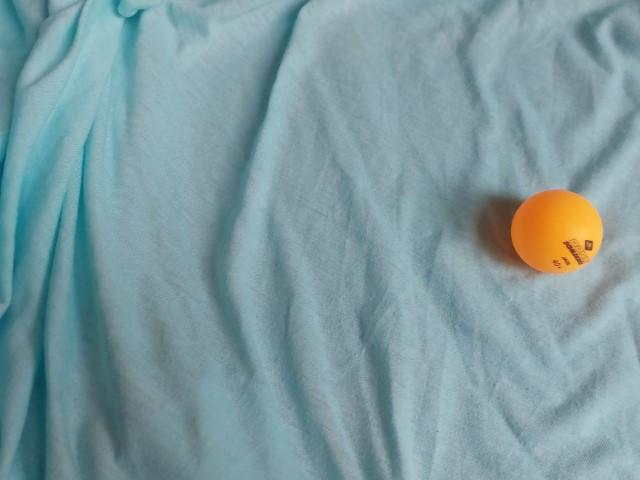oball: (505, 181, 609, 284)
